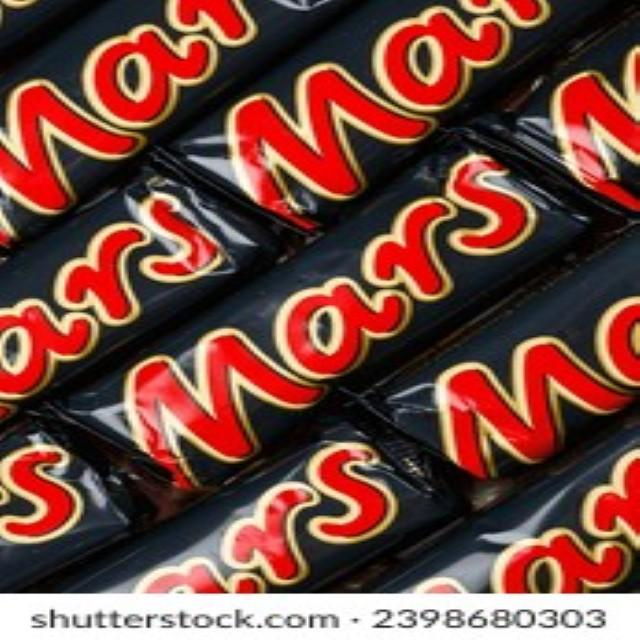mars_chocolate: (85, 133, 622, 513), (172, 0, 595, 253), (112, 402, 492, 615), (0, 0, 310, 260), (385, 207, 637, 515), (0, 163, 250, 437)
